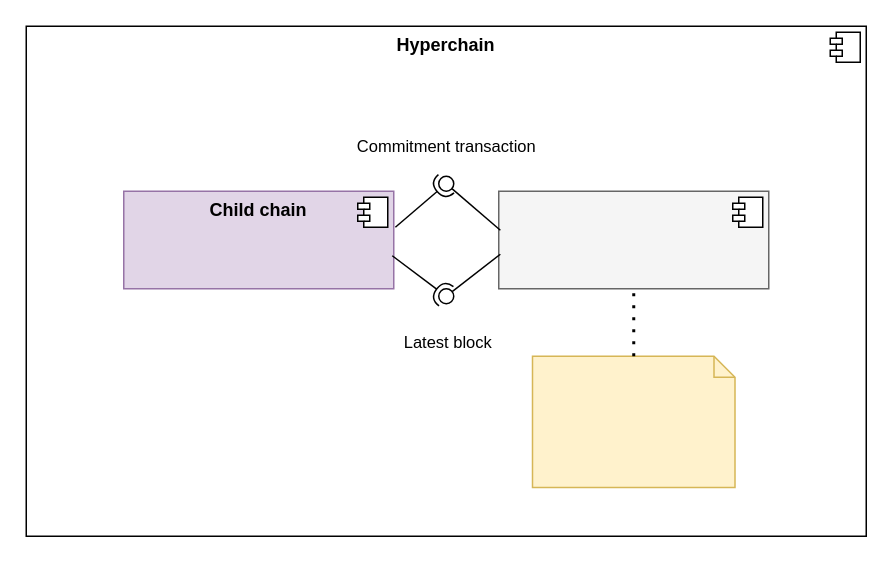
The diagram is 893 pixels wide and 563 high, and some of its shapes have lost their labels. The centre of each missing label's shape, as x and y in pixels:
One of the existing solutions: 1. Bitcoin; 2. Aeternity; 3. Ethereum; 4. etc.: (633,421)
Parent chain (PoW): (633,239)
